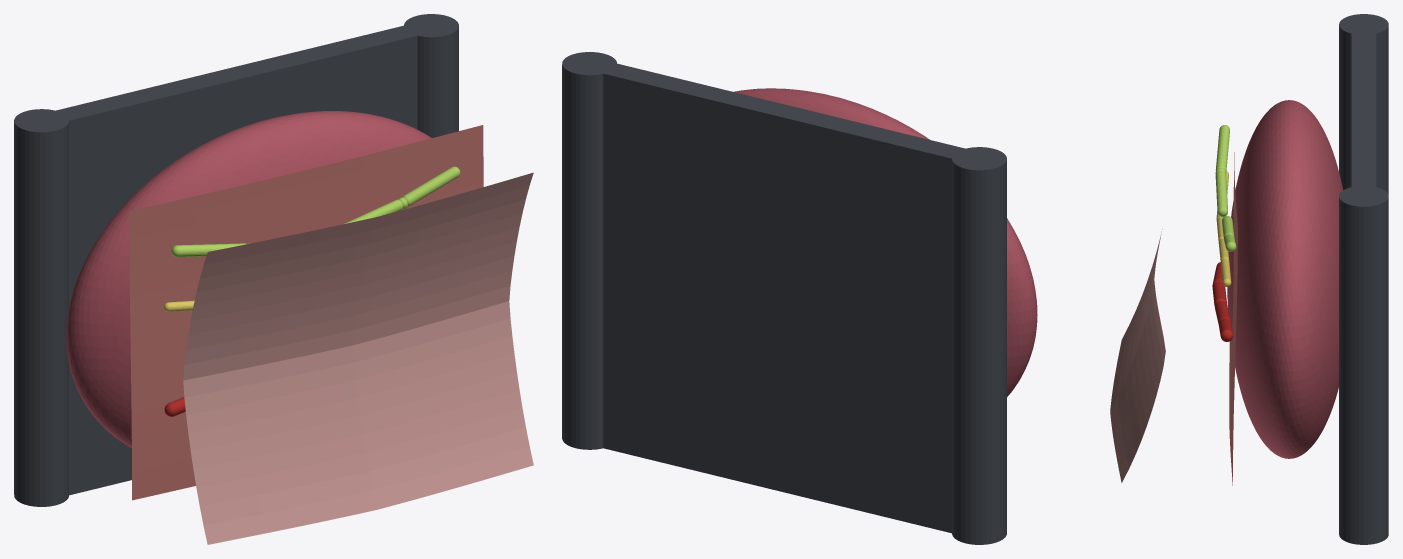
File: dranmar_safeplane_complication_duct.glb
3 views of the same model, side by side, from view 1: azimuth 30°, elevation 25°; view 2: azimuth 150°, elevation 25°; view 3: azimuth 270°, elevation 25° (orthographic). The views are drawn at different scales.
Parts seen in each view (by area): view 1: SuperficialFlap, Fixture, TargetBed, ProtectedOrgan, DuctRight, DuctLeft; view 2: Fixture, ProtectedOrgan; view 3: ProtectedOrgan, Fixture, SuperficialFlap, TargetBed, DuctLeft, VesselRight, NerveRight, VesselLeft, DuctRight.
Part boxes in pixels (<box>): SuperficialFlap: <box>183,172,533,544</box>; Fixture: <box>14,14,458,506</box>; TargetBed: <box>129,125,483,500</box>; ProtectedOrgan: <box>66,111,431,448</box>; DuctRight: <box>343,166,460,224</box>; DuctLeft: <box>171,243,250,257</box>; Fixture: <box>562,52,1006,544</box>; ProtectedOrgan: <box>733,88,1037,396</box>; ProtectedOrgan: <box>1227,100,1342,458</box>; Fixture: <box>1339,14,1388,544</box>; SuperficialFlap: <box>1110,229,1165,482</box>; TargetBed: <box>1229,152,1237,485</box>; DuctLeft: <box>1215,125,1229,216</box>; VesselRight: <box>1215,301,1233,341</box>; NerveRight: <box>1218,238,1231,286</box>; VesselLeft: <box>1212,262,1226,306</box>; DuctRight: <box>1222,215,1236,251</box>.
Size of the model in its own units: 0.22 by 0.18 by 0.1344.
